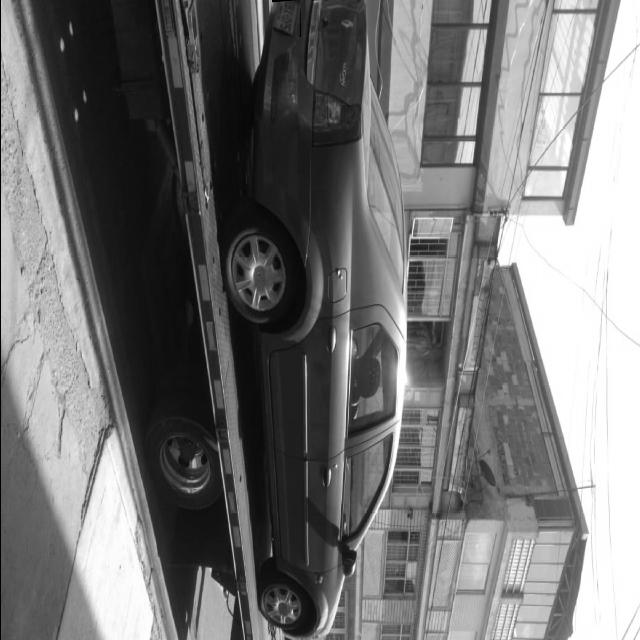plate: (271, 1, 299, 37)
